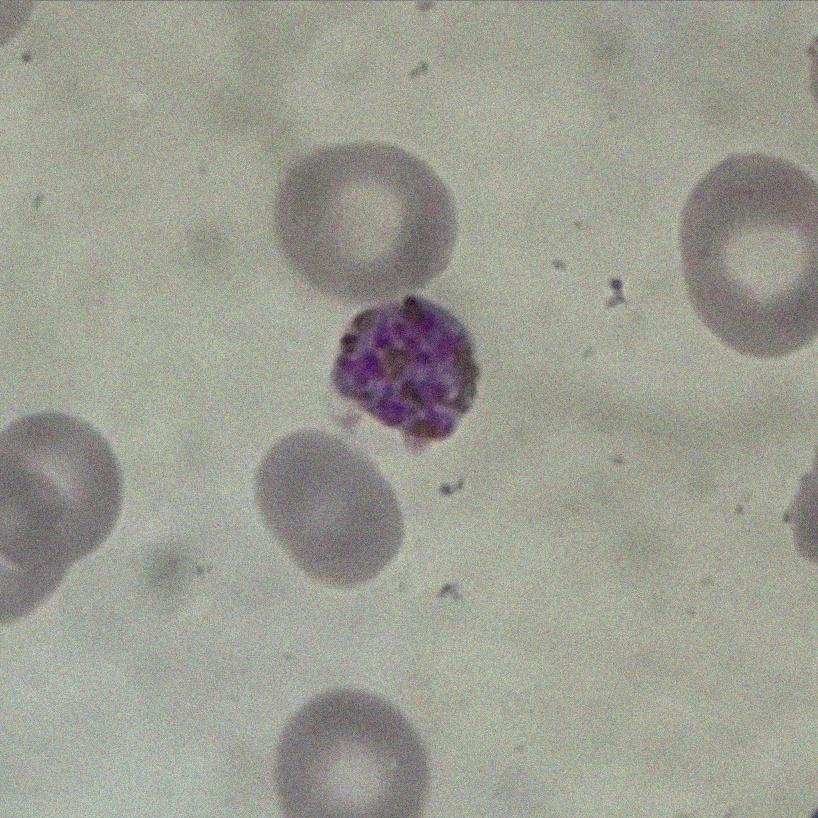Infected: (328, 294, 481, 456)
Uninfected: (278, 141, 457, 307), (682, 157, 818, 357), (253, 427, 403, 586), (272, 684, 433, 818), (0, 407, 127, 569)
